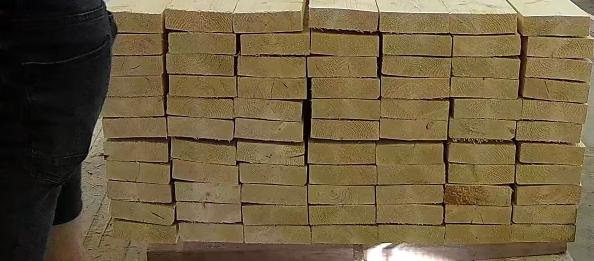Wood-Plank: (240, 29, 309, 55), (522, 58, 593, 82), (311, 31, 379, 56), (309, 7, 379, 31), (171, 138, 235, 164), (524, 98, 588, 124), (521, 78, 590, 102), (172, 159, 238, 184), (309, 140, 376, 164), (234, 97, 302, 120), (239, 163, 307, 186), (454, 33, 522, 56), (523, 36, 594, 58), (168, 31, 235, 54), (383, 34, 453, 56), (454, 98, 524, 120), (379, 11, 449, 33), (106, 160, 170, 184), (111, 200, 175, 224), (238, 56, 307, 78), (113, 220, 176, 244), (166, 96, 234, 118), (238, 76, 306, 98), (237, 142, 305, 164), (382, 76, 450, 98), (167, 118, 234, 140), (166, 54, 233, 76), (235, 120, 302, 142), (519, 142, 586, 164), (165, 9, 232, 31), (104, 139, 168, 162), (518, 120, 582, 143), (175, 182, 241, 204), (451, 118, 517, 140), (308, 56, 377, 77), (522, 14, 591, 35), (312, 99, 380, 120), (378, 164, 446, 185), (449, 143, 517, 164), (107, 180, 171, 202), (96, 75, 163, 96), (377, 143, 444, 164), (450, 13, 517, 34), (312, 78, 381, 98), (309, 166, 377, 186), (381, 100, 449, 120), (452, 78, 520, 98), (101, 96, 165, 117), (103, 33, 164, 55), (169, 76, 236, 96), (309, 205, 376, 225), (312, 120, 379, 140), (381, 120, 448, 140), (449, 164, 516, 184), (453, 58, 520, 78), (516, 186, 583, 206), (176, 204, 242, 224), (446, 186, 512, 206), (517, 165, 583, 185), (242, 186, 307, 206), (383, 57, 451, 76), (234, 11, 301, 30), (103, 118, 166, 138), (242, 206, 308, 225), (447, 225, 512, 244), (102, 56, 163, 76), (378, 205, 442, 224), (244, 226, 311, 244), (377, 186, 444, 204), (446, 206, 513, 224), (514, 205, 577, 224), (312, 226, 378, 244), (309, 186, 374, 204), (379, 226, 444, 244), (179, 224, 243, 242), (107, 13, 162, 33), (512, 225, 576, 242)
